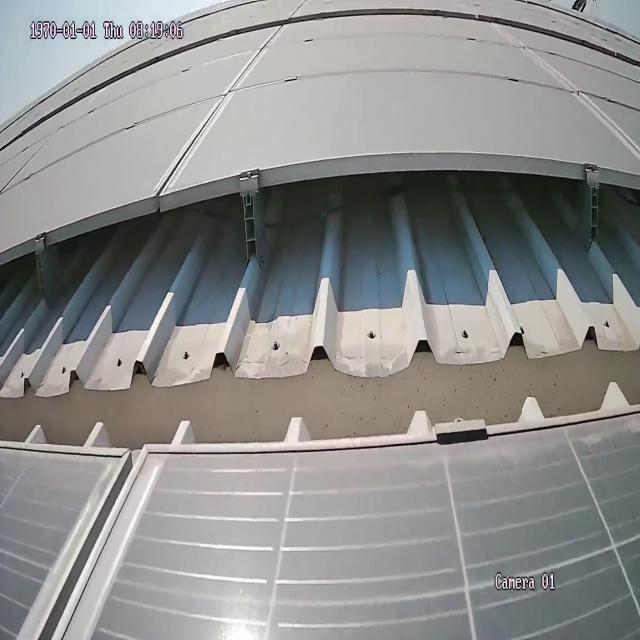interior panel: (13, 475, 159, 636), (501, 31, 640, 166), (152, 39, 273, 190)
outher panel: (1, 153, 639, 455)
